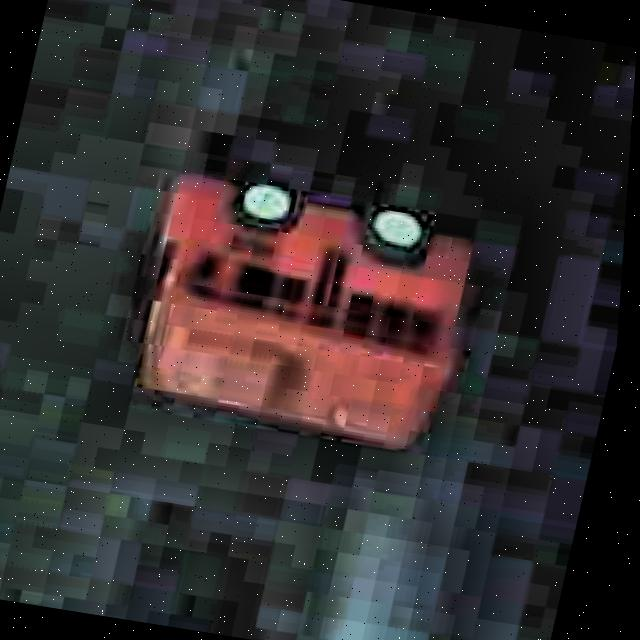bus: (101, 150, 503, 466)
